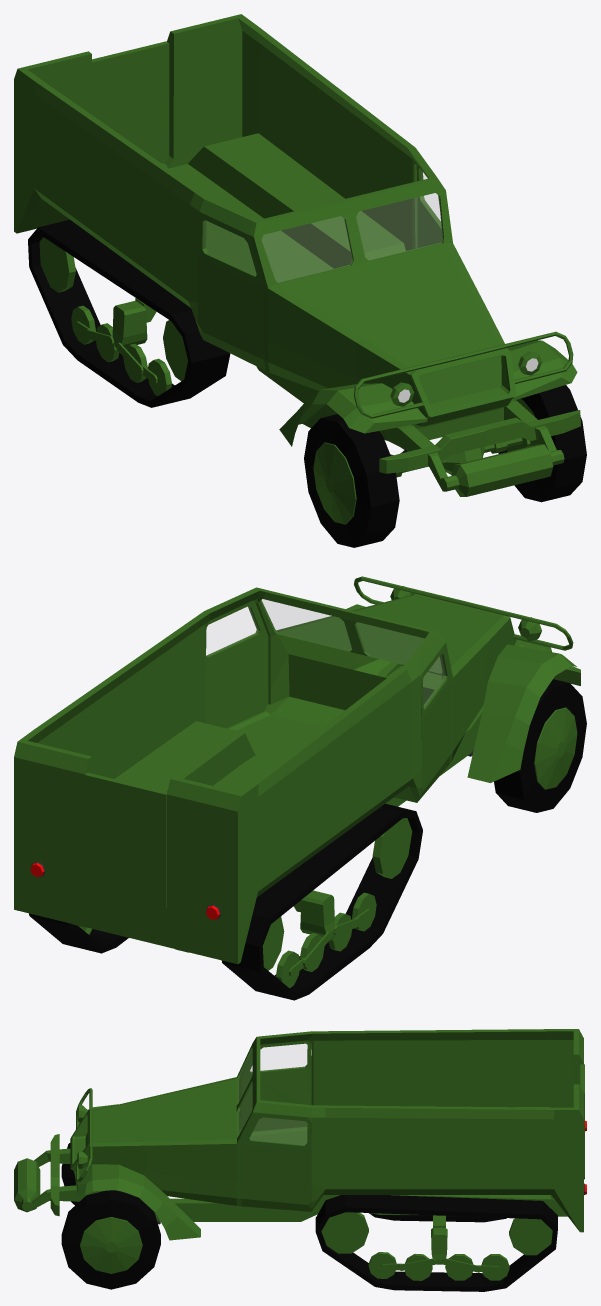
The picture shows the model from 3 angles, top to bottom: view 1: azimuth 30°, elevation 25°; view 2: azimuth 150°, elevation 25°; view 3: azimuth 270°, elevation 25°; orthographic projection. The views are drawn at different scales.
Visible parts, largest first — view 1: Plane.018, Cube.007, Cube.006, Cylinder.007, Plane.021, Plane.020, Plane.019, Cylinder.006, Plane.023; view 2: Plane.018, Cube.007, Plane.019, Cylinder.007, Plane.023, Plane.021, Plane.020, Cube.006; view 3: Plane.018, Cube.007, Cylinder.006, Cube.006, Plane.023, Plane.020, Plane.021.
Boxes of the visible parts, left/top/right/bottom form: Plane.018: left=14, top=14, right=577, bottom=446; Cube.007: left=28, top=219, right=230, bottom=407; Cube.006: left=135, top=298, right=580, bottom=496; Cylinder.007: left=304, top=414, right=399, bottom=547; Plane.021: left=262, top=193, right=442, bottom=282; Plane.020: left=198, top=213, right=263, bottom=357; Plane.019: left=92, top=41, right=169, bottom=163; Cylinder.006: left=498, top=385, right=586, bottom=502; Plane.023: left=416, top=163, right=442, bottom=247; Plane.018: left=14, top=576, right=576, bottom=964; Cube.007: left=29, top=803, right=422, bottom=1000; Plane.019: left=84, top=772, right=167, bottom=911; Cylinder.007: left=494, top=679, right=586, bottom=812; Plane.023: left=205, top=601, right=268, bottom=728; Plane.021: left=261, top=599, right=441, bottom=672; Plane.020: left=421, top=647, right=450, bottom=790; Cube.006: left=72, top=639, right=580, bottom=952; Plane.018: left=70, top=1029, right=586, bottom=1240; Cube.007: left=315, top=1195, right=557, bottom=1291; Cylinder.006: left=61, top=1190, right=160, bottom=1289; Cube.006: left=14, top=1134, right=567, bottom=1227; Plane.023: left=241, top=1113, right=311, bottom=1204; Plane.020: left=241, top=1040, right=311, bottom=1131; Plane.021: left=239, top=1052, right=251, bottom=1133.
Size of the model in its own units: 226 by 229 by 655.
